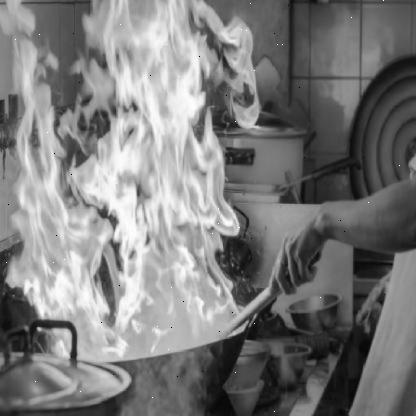fire: (3, 0, 263, 363)
smoke: (115, 306, 243, 416)
